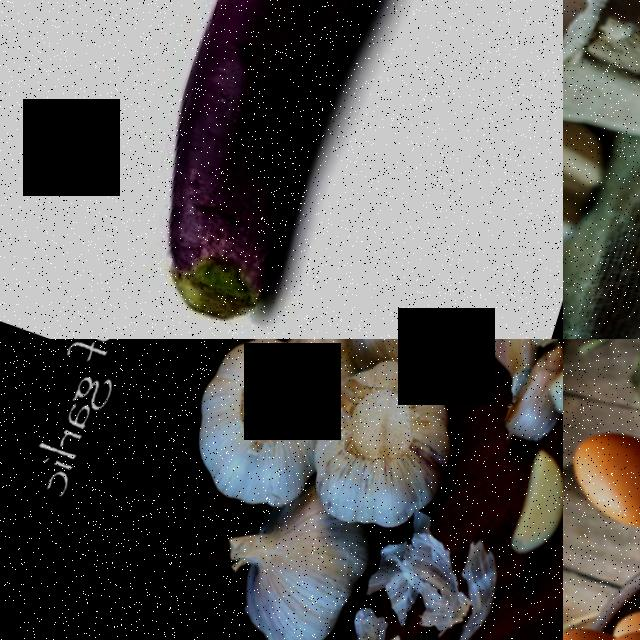egg_: (563, 415, 640, 532)
eggplant: (113, 0, 405, 339)
garlic: (297, 339, 468, 541), (173, 339, 344, 515), (216, 485, 368, 640), (494, 432, 563, 562)
